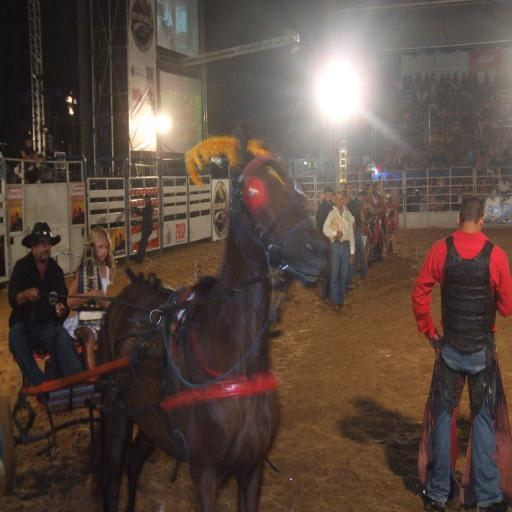horse: (89, 120, 328, 512)
